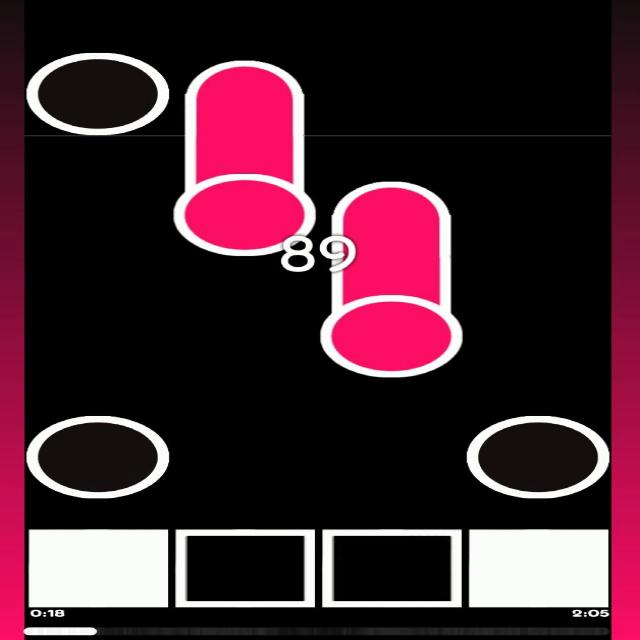end_hold: (328, 175, 454, 225), (189, 52, 308, 104)
note: (23, 48, 171, 140), (464, 409, 606, 502), (31, 410, 173, 498)
start_hold: (321, 271, 466, 379), (173, 157, 316, 256)
